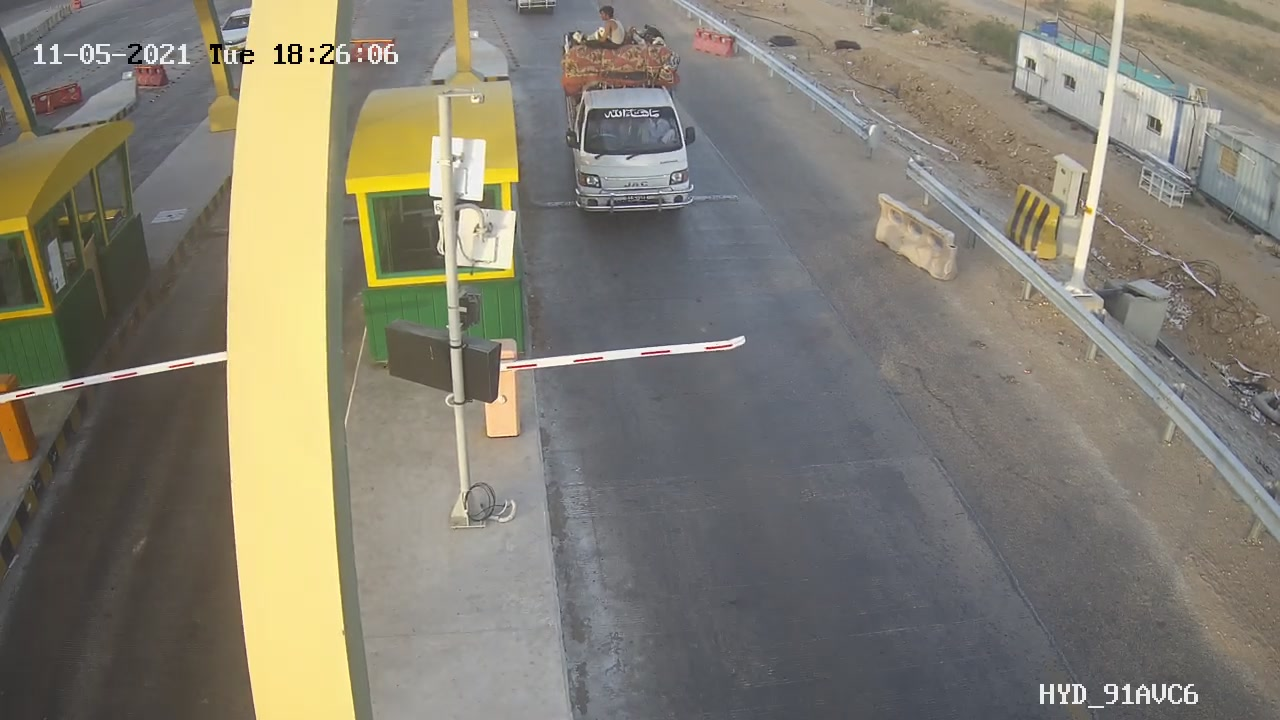F2: (555, 37, 709, 239)
